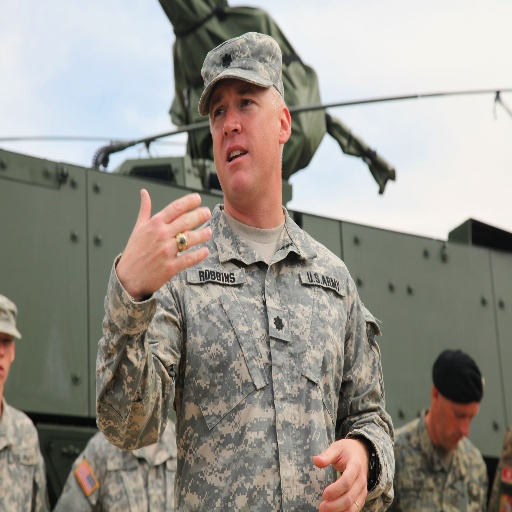hand: (112, 189, 211, 307), (312, 435, 372, 511)
